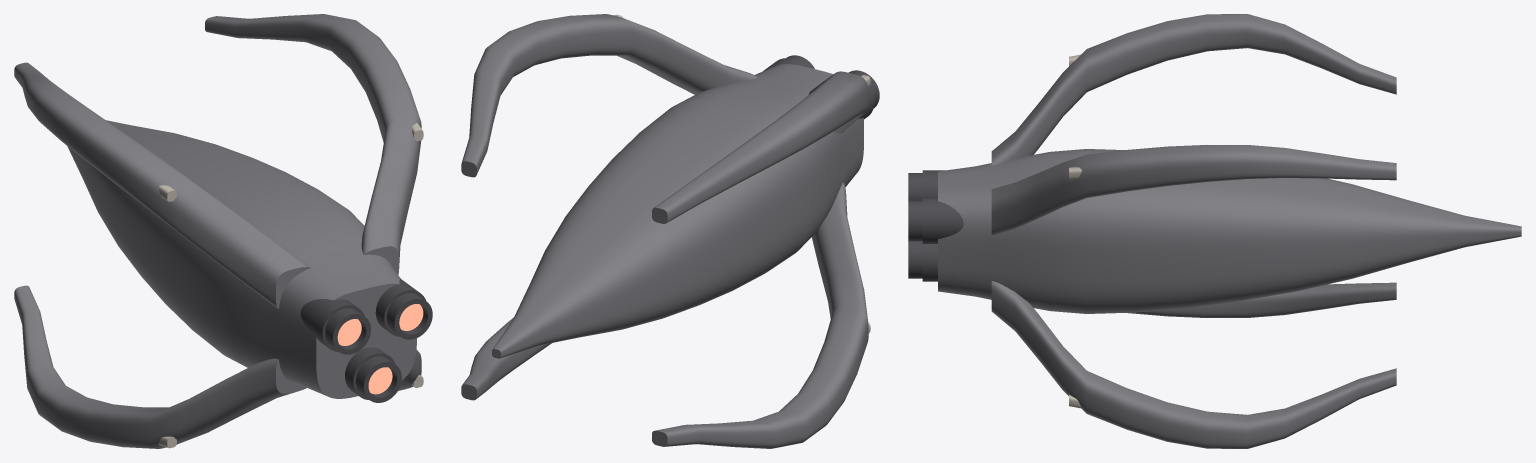
Rendered from harpy_eagle.glb.
3 views of the same model, side by side, from view 1: azimuth 30°, elevation 25°; view 2: azimuth 150°, elevation 25°; view 3: azimuth 270°, elevation 25° (orthographic). The views are drawn at different scales.
Visible parts, largest first — view 1: harpy_eagle_hull; view 2: harpy_eagle_hull; view 3: harpy_eagle_hull.
Part boxes in pixels (x1,y1,x2,y2): harpy_eagle_hull: [14, 14, 432, 448]; harpy_eagle_hull: [461, 14, 879, 448]; harpy_eagle_hull: [908, 14, 1521, 448].
Size of the model in its own units: 300 by 286 by 536.
